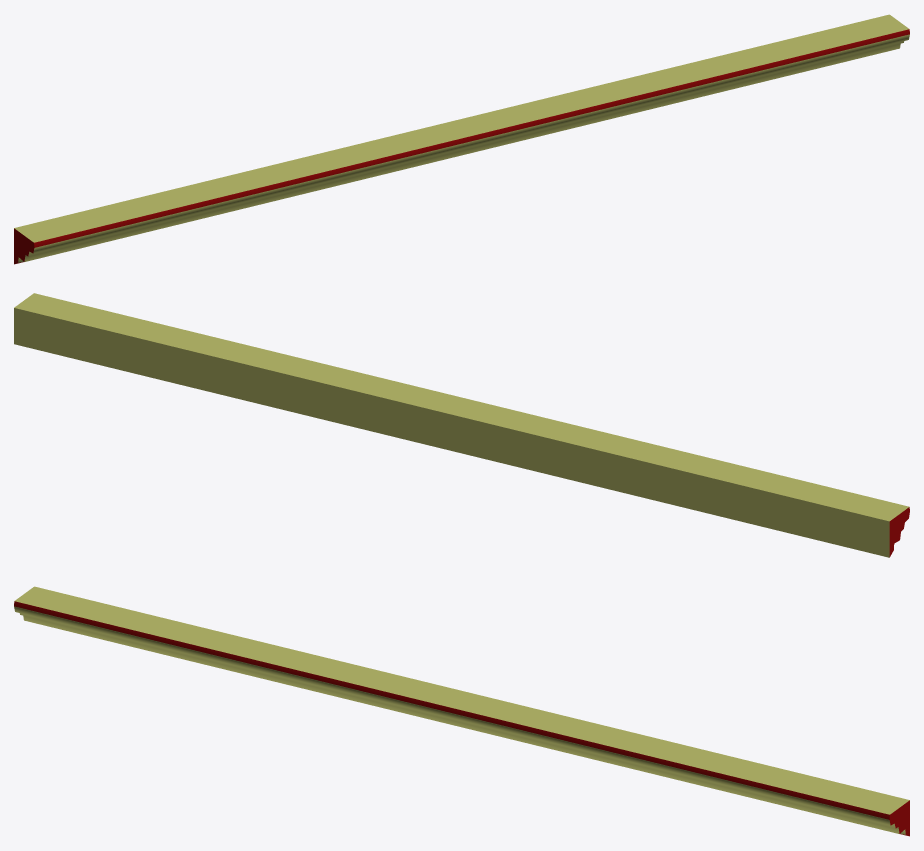
The model's file is trim_gold_red.fbx.
3 renders of one model, top to bottom at view 1: azimuth 30°, elevation 25°; view 2: azimuth 150°, elevation 25°; view 3: azimuth 330°, elevation 25°, orthographic.
Visible parts, largest first — view 1: trim_gold_red; view 2: trim_gold_red; view 3: trim_gold_red.
Part boxes in pixels (left/top/right/bottom): trim_gold_red: left=14, top=14, right=909, bottom=264; trim_gold_red: left=14, top=293, right=909, bottom=557; trim_gold_red: left=14, top=586, right=909, bottom=836.
Bounding box in the file's own units: 504 × 20 × 20.3.
